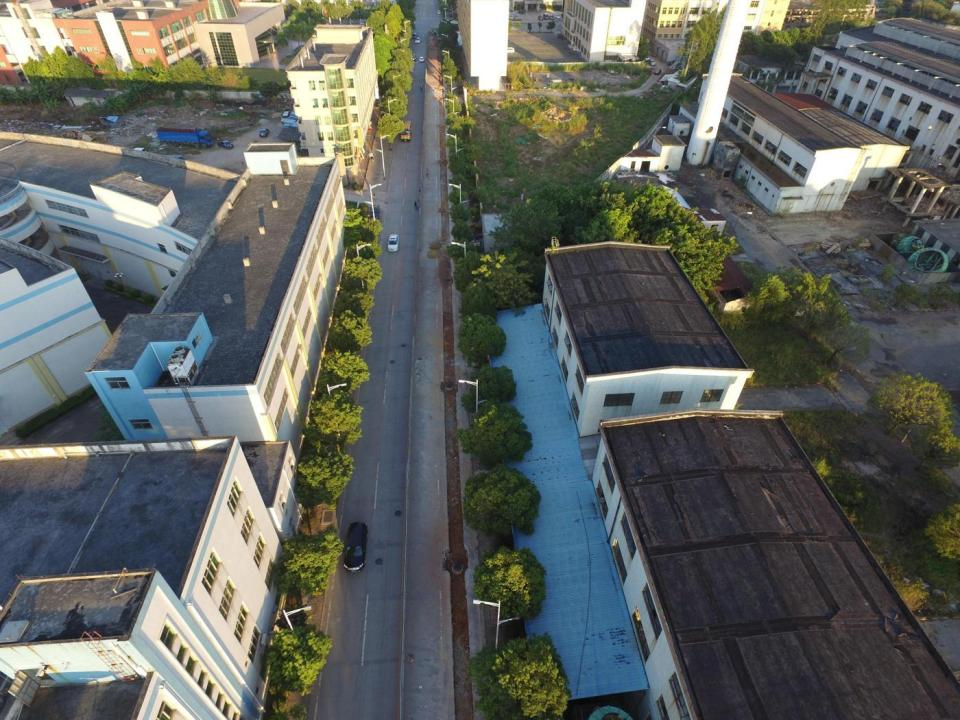bus: (400, 120, 412, 142)
car: (342, 522, 370, 573), (387, 233, 400, 253), (369, 203, 380, 221), (217, 140, 234, 149), (258, 128, 270, 137), (504, 47, 515, 54), (642, 54, 650, 61), (449, 19, 459, 24), (654, 68, 661, 75), (648, 59, 655, 66), (410, 53, 416, 61), (542, 13, 548, 21), (518, 8, 525, 14), (555, 13, 561, 19), (415, 37, 420, 44), (419, 56, 424, 62), (412, 32, 417, 38), (509, 14, 514, 20), (538, 15, 543, 21), (550, 13, 554, 20), (436, 10, 442, 14)
truck: (156, 127, 213, 149), (131, 146, 185, 168)
van: (280, 110, 290, 124)
